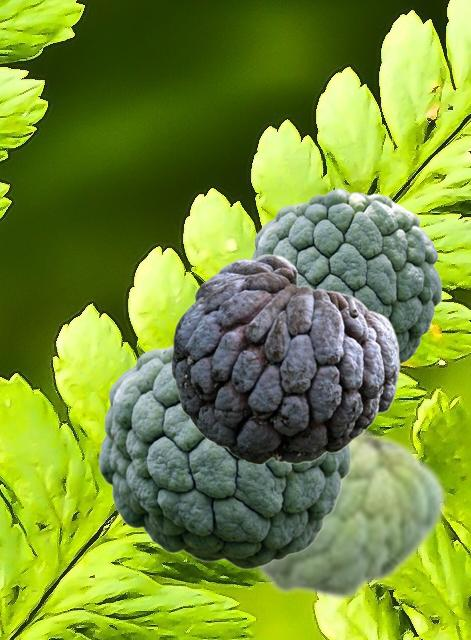atis: (98, 343, 350, 569), (171, 253, 399, 463), (249, 425, 445, 602), (251, 188, 441, 364)
